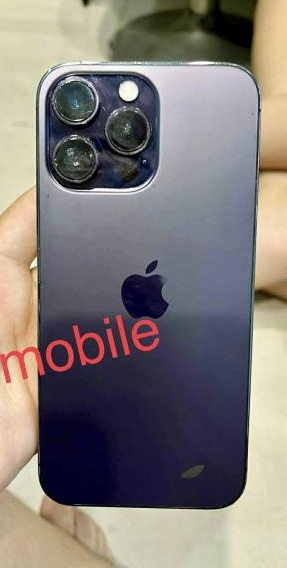scratch: (50, 75, 146, 182), (167, 453, 222, 495)
